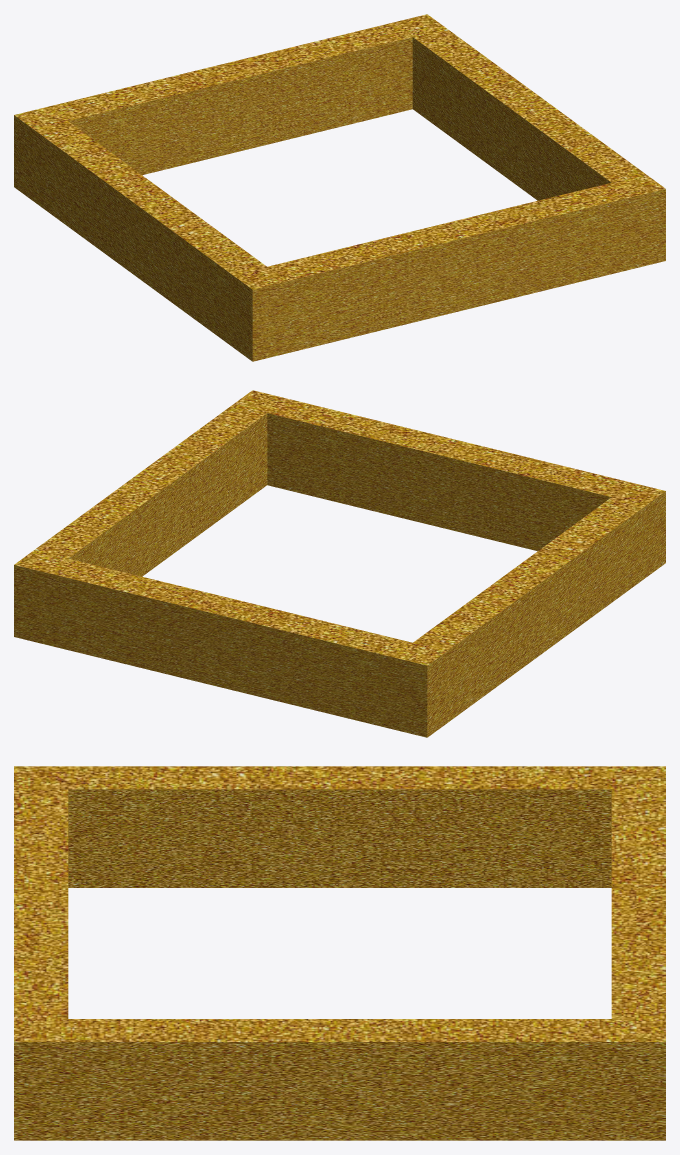
File: GoldenFrame.glb
3 renders of one model, top to bottom at view 1: azimuth 30°, elevation 25°; view 2: azimuth 150°, elevation 25°; view 3: azimuth 270°, elevation 25°, orthographic. The views are drawn at different scales.
Visible parts, largest first — view 1: Frame_2; view 2: Frame_2; view 3: Frame_2.
Part boxes in pixels (x1=…): Frame_2: x1=14, y1=14, x2=665, y2=361; Frame_2: x1=14, y1=390, x2=665, y2=737; Frame_2: x1=14, y1=766, x2=665, y2=1140.
Size of the model in its own units: 2.4 by 0.4 by 2.4.
Materials: 1 (1 with a texture image).
